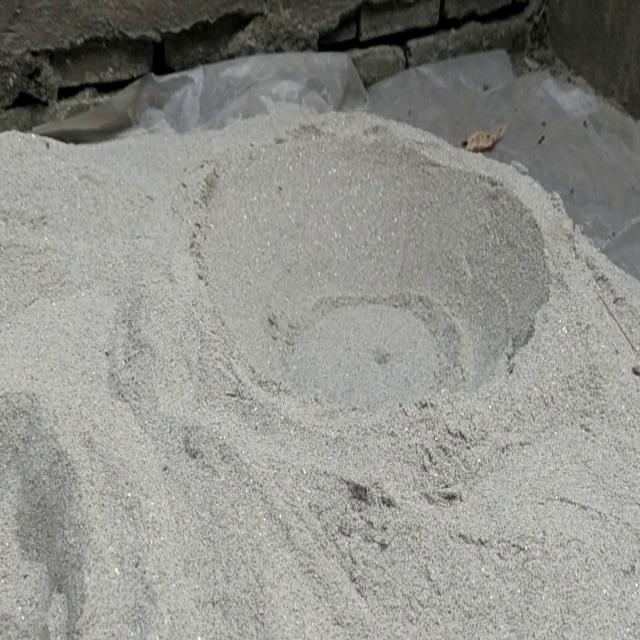C20: (201, 127, 548, 409)
